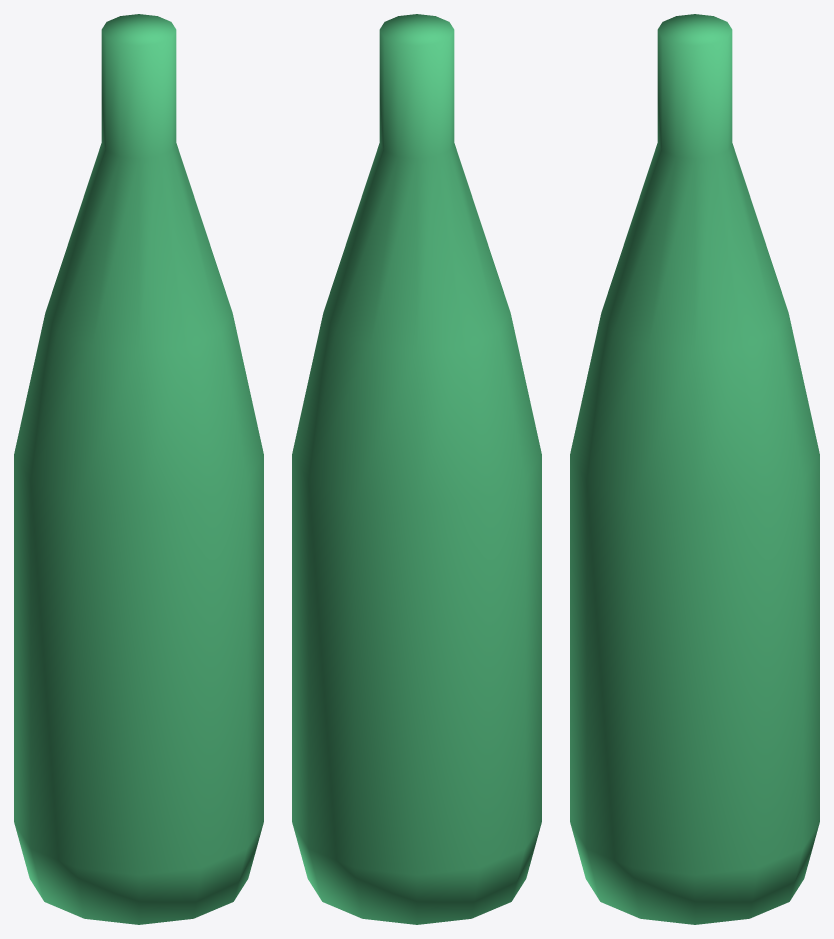
The model's file is bottle_glass.glb.
The picture shows the model from 3 angles, left to right: view 1: azimuth 30°, elevation 25°; view 2: azimuth 150°, elevation 25°; view 3: azimuth 270°, elevation 25°; orthographic projection.
Visible parts, largest first — view 1: bottle_glass; view 2: bottle_glass; view 3: bottle_glass.
Part boxes in pixels (<box>): bottle_glass: <box>14,14,263,924</box>; bottle_glass: <box>292,14,541,924</box>; bottle_glass: <box>570,14,819,924</box>.
Size of the model in its own units: 0.08 by 0.3 by 0.08.
